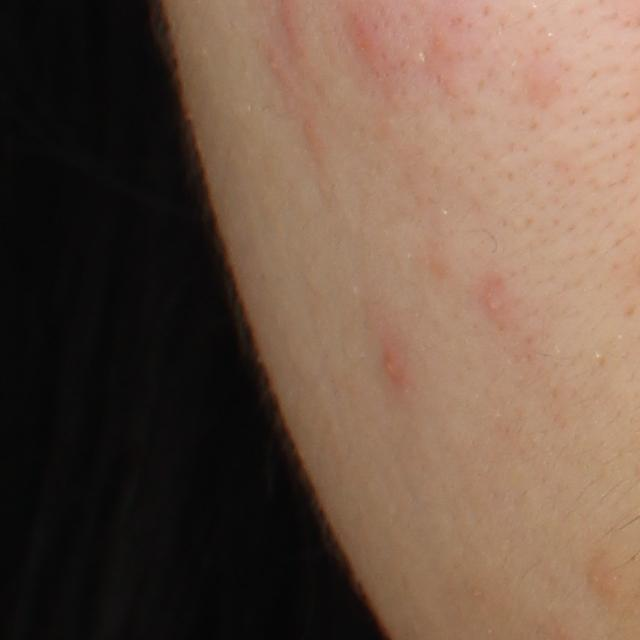papule: (343, 13, 387, 65), (375, 340, 415, 394), (477, 274, 513, 321)
